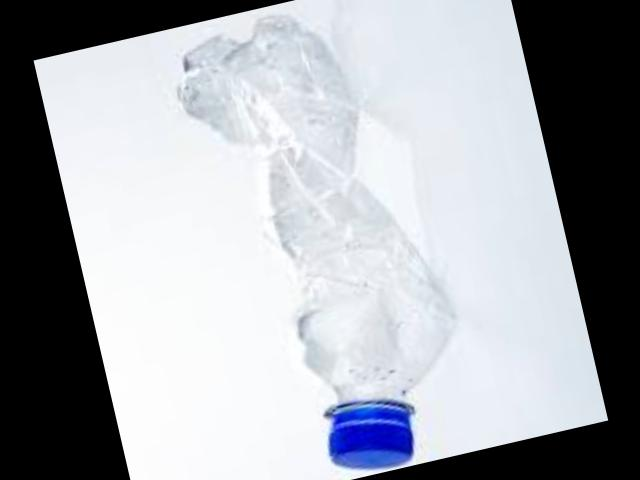plastic: (173, 21, 451, 405)
